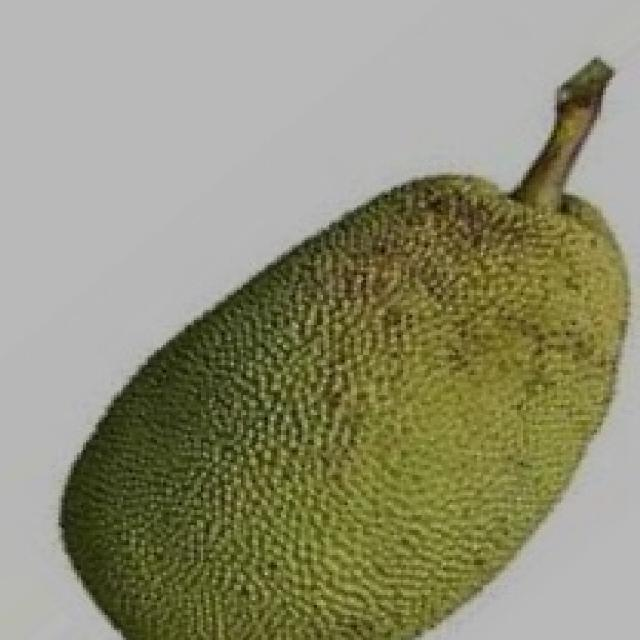Fruit: (237, 155, 640, 627), (28, 242, 424, 640)
